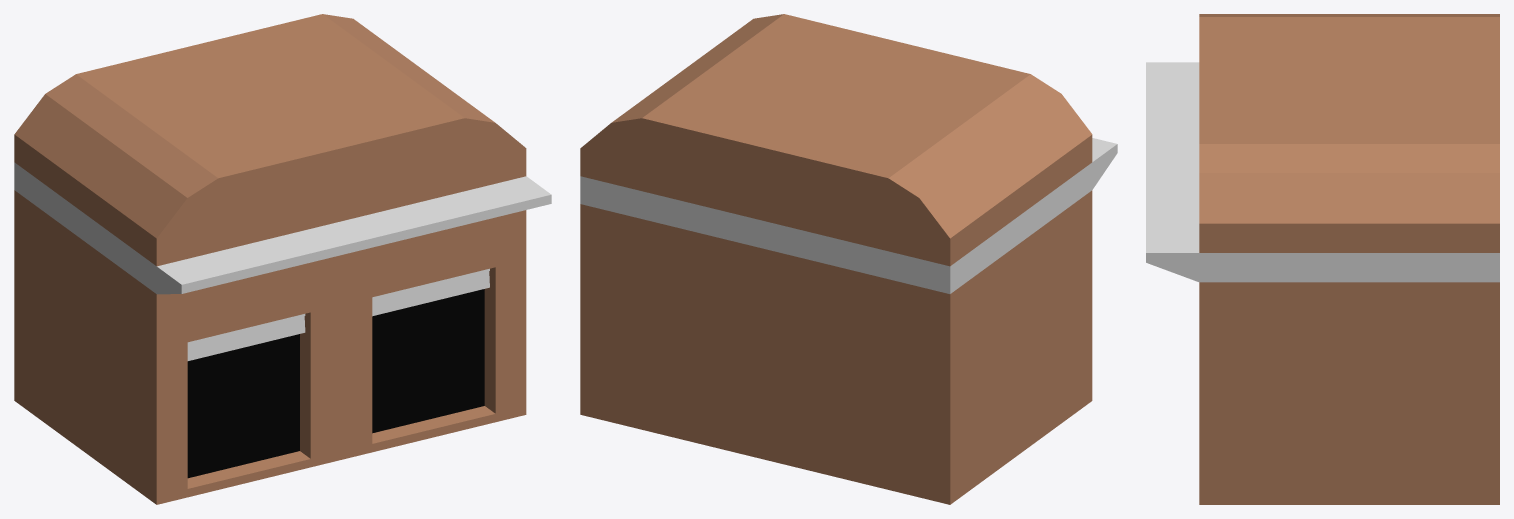
Rendered from Store_open_orange.fbx.
The picture shows the model from 3 angles, left to right: view 1: azimuth 30°, elevation 25°; view 2: azimuth 150°, elevation 25°; view 3: azimuth 270°, elevation 25°; orthographic projection. The views are drawn at different scales.
Visible parts, largest first — view 1: StoreOpenDoor.002; view 2: StoreOpenDoor.002; view 3: StoreOpenDoor.002.
Part boxes in pixels (left/top/right/bottom): StoreOpenDoor.002: left=14, top=14, right=551, bottom=504; StoreOpenDoor.002: left=580, top=14, right=1117, bottom=504; StoreOpenDoor.002: left=1146, top=14, right=1499, bottom=504.
Bounding box in the file's own units: 300 × 242 × 235.
